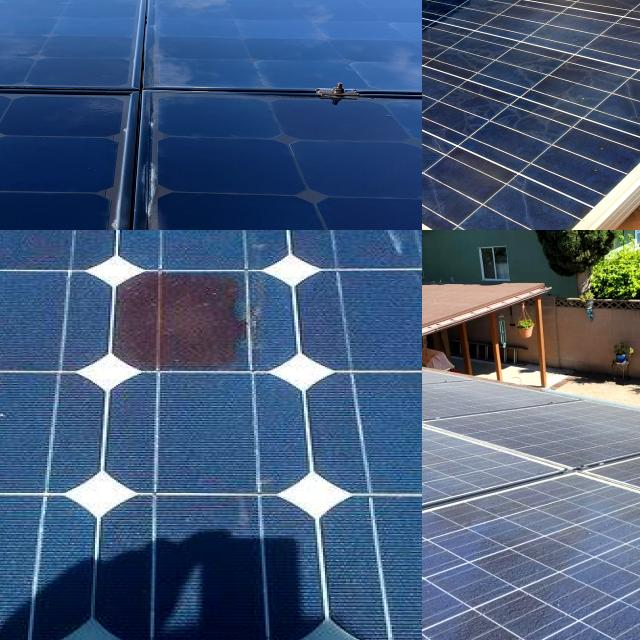crack: (422, 95, 600, 204), (497, 20, 640, 126), (140, 124, 324, 203), (273, 135, 422, 209), (0, 130, 164, 197), (422, 1, 532, 91), (0, 171, 136, 230), (441, 0, 640, 40), (422, 51, 524, 128), (150, 193, 349, 230), (140, 56, 298, 94), (0, 126, 78, 202), (32, 52, 140, 100), (315, 193, 422, 230), (0, 182, 58, 230)
dust: (422, 541, 640, 640), (422, 458, 564, 498)
shadow: (70, 255, 276, 392)
